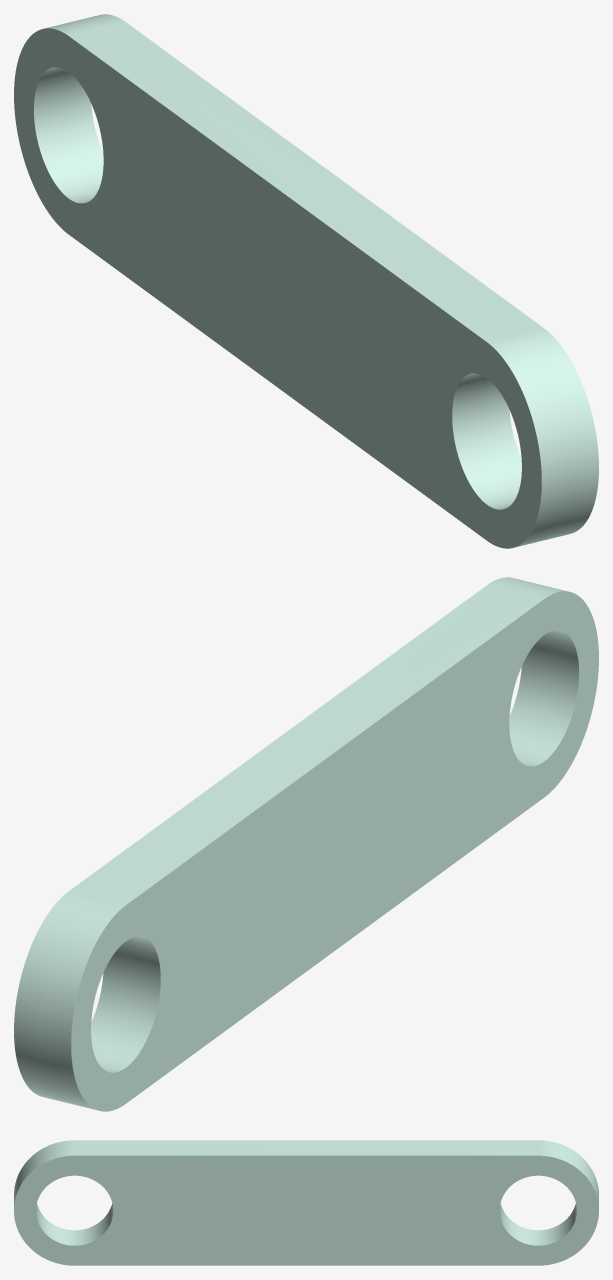
The picture shows the model from 3 angles, top to bottom: view 1: azimuth 30°, elevation 25°; view 2: azimuth 150°, elevation 25°; view 3: azimuth 270°, elevation 25°; orthographic projection. The views are drawn at different scales.
Parts seen in each view (by area): view 1: Renderer Node; view 2: Renderer Node; view 3: Renderer Node.
Boxes of the visible parts, x1,y1,x2,y2 form: Renderer Node: (14, 14, 598, 548); Renderer Node: (14, 577, 598, 1111); Renderer Node: (14, 1140, 598, 1265).
Size of the model in its own units: 0.0938 by 0.3112 by 1.5.
